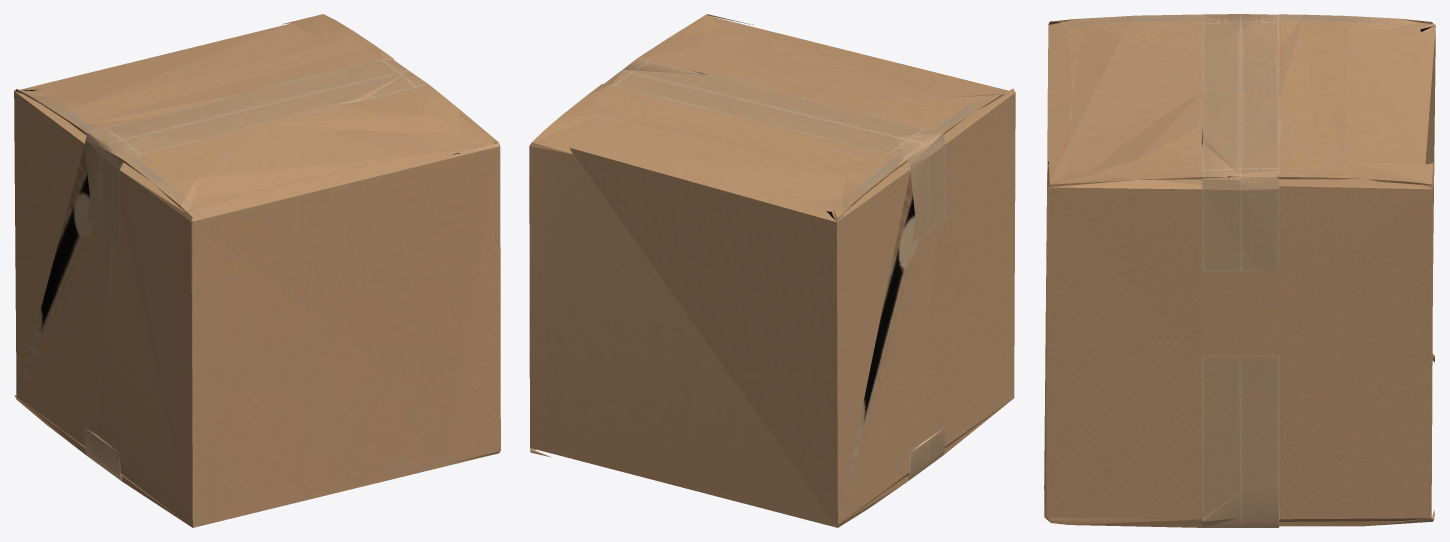
The picture shows the model from 3 angles, left to right: view 1: azimuth 30°, elevation 25°; view 2: azimuth 150°, elevation 25°; view 3: azimuth 270°, elevation 25°; orthographic projection. The views are drawn at different scales.
Parts seen in each view (by area): view 1: carton; view 2: carton; view 3: carton.
Part boxes in pixels (box(x1,y1,x2,y2)): carton: box(14, 14, 500, 527); carton: box(529, 14, 1015, 527); carton: box(1044, 14, 1435, 527).
Bounding box in the file's own units: 1 × 1 × 1.
1 material, 1 textured.
